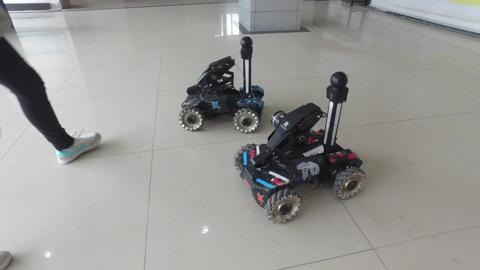chariot: (227, 70, 371, 229), (168, 33, 279, 141)
